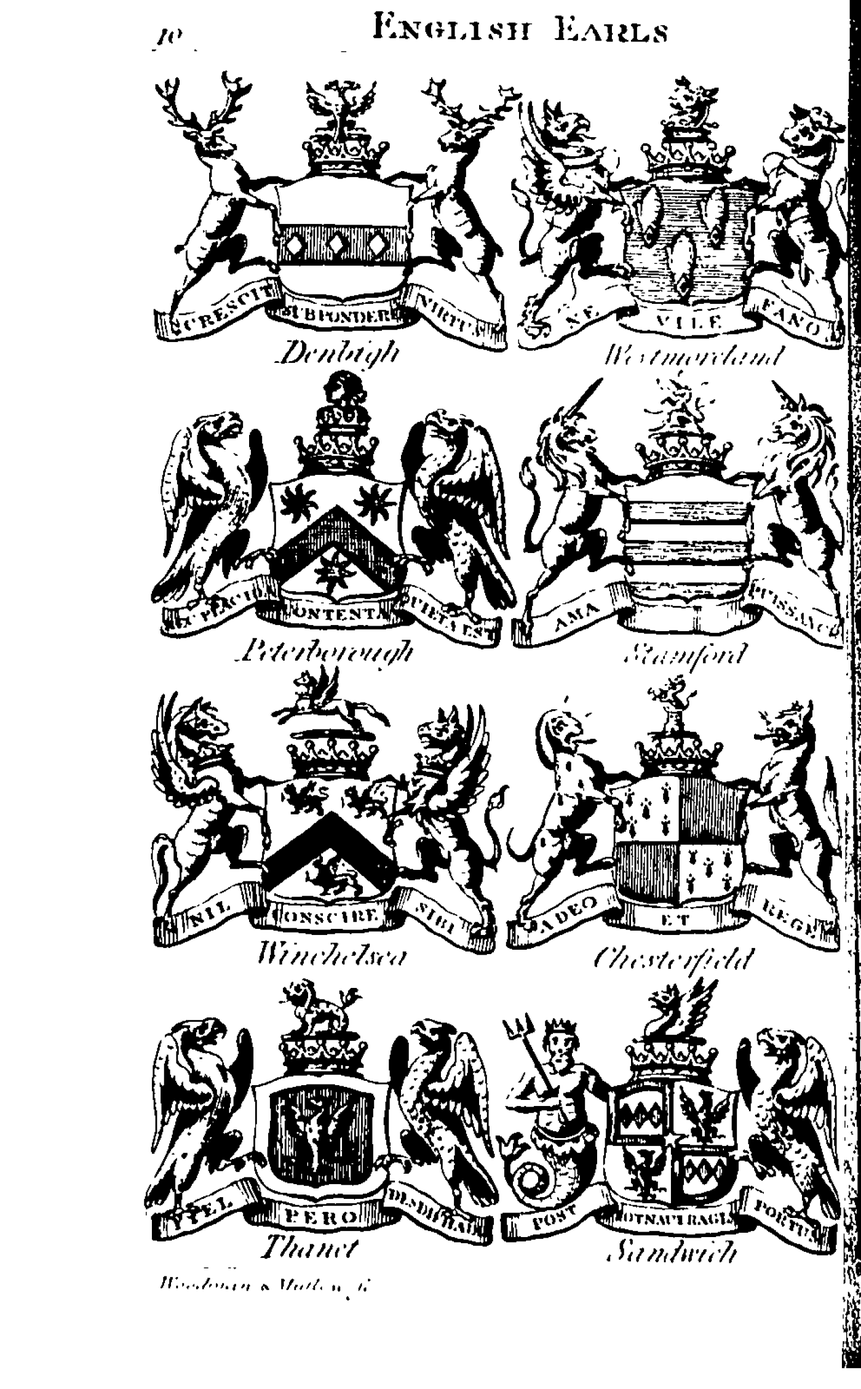coat_of_arms: (151, 61, 522, 378), (500, 977, 857, 1281), (155, 375, 514, 674), (151, 973, 506, 1272), (512, 371, 861, 674), (514, 72, 855, 373), (509, 677, 854, 974), (160, 672, 497, 972)
